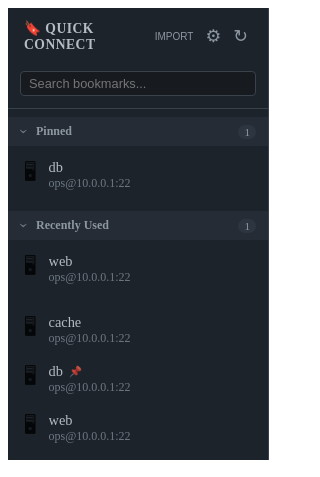
BookmarkSidebar move up/down › disables the move that would leave the group
The width and height of the screenshot is (320, 477).
Right-click the element with class "bookmark-item" showing "🖥 cache ops@10.0.0.1:22" at (77, 329), box [24,314,131,344]
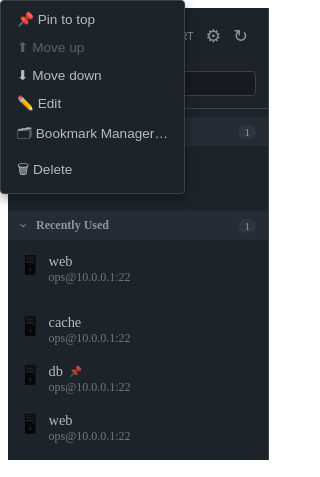
Expected: the button with class "bookmark-context-item--up" is disabled, [5,33,180,61]
Expected: the button with class "bookmark-context-item--down" is enabled, [5,61,180,89]
